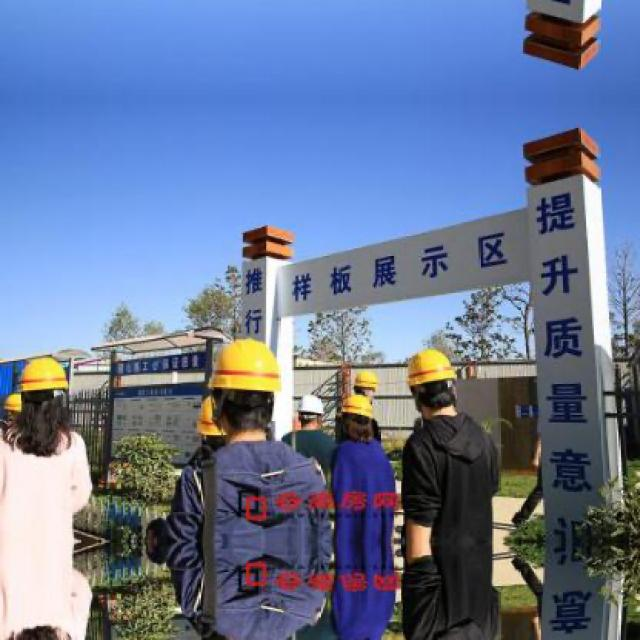helmet: (208, 335, 282, 441), (404, 344, 458, 418), (19, 356, 66, 423), (337, 392, 378, 441), (297, 395, 326, 433), (352, 370, 382, 400)
